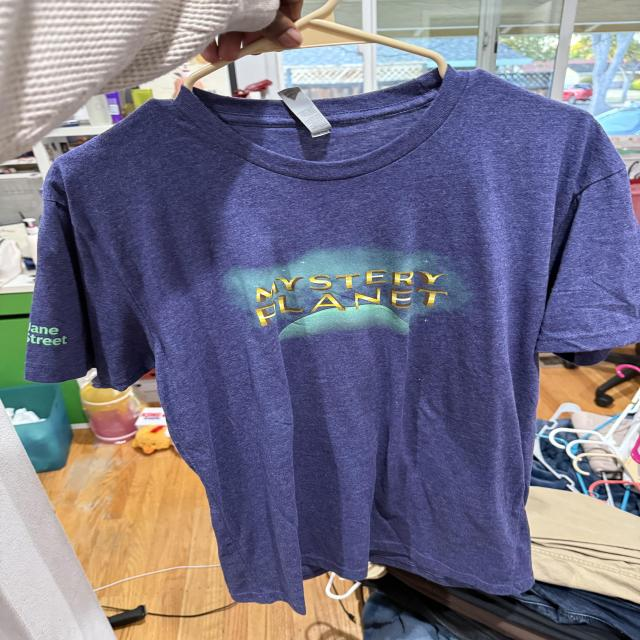back_tag: (276, 89, 334, 138)
